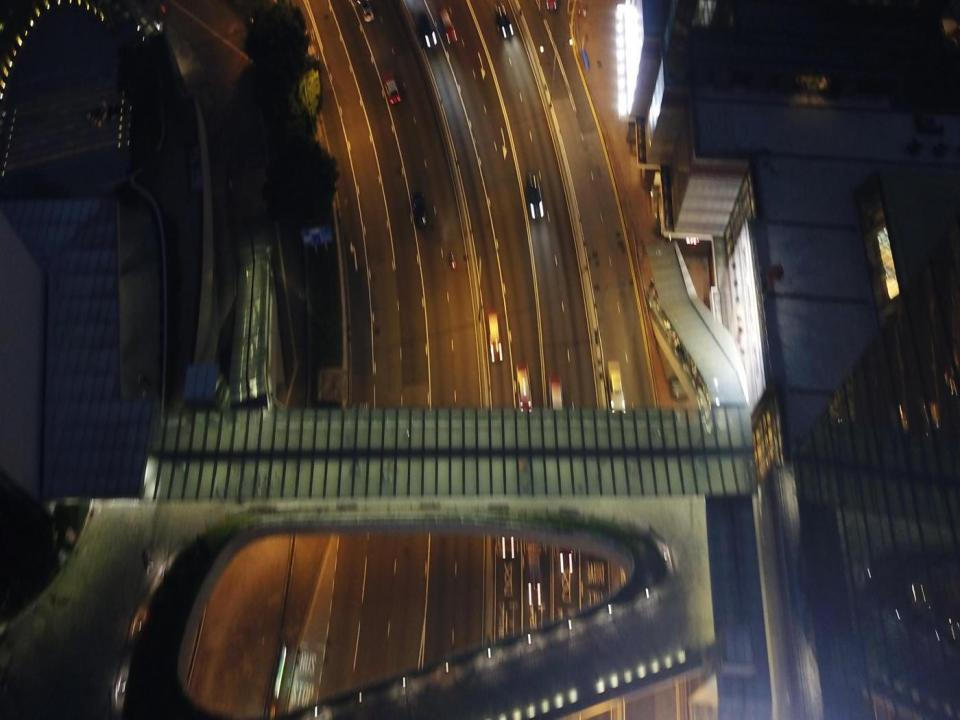car: (496, 482, 516, 559), (524, 539, 542, 610), (555, 512, 575, 572), (515, 364, 533, 416), (487, 309, 503, 362), (526, 172, 544, 219), (438, 7, 458, 45), (550, 378, 564, 432), (418, 12, 438, 47), (382, 71, 401, 105), (496, 4, 513, 38), (410, 191, 426, 227), (356, 1, 374, 22)
van: (607, 360, 626, 420)
